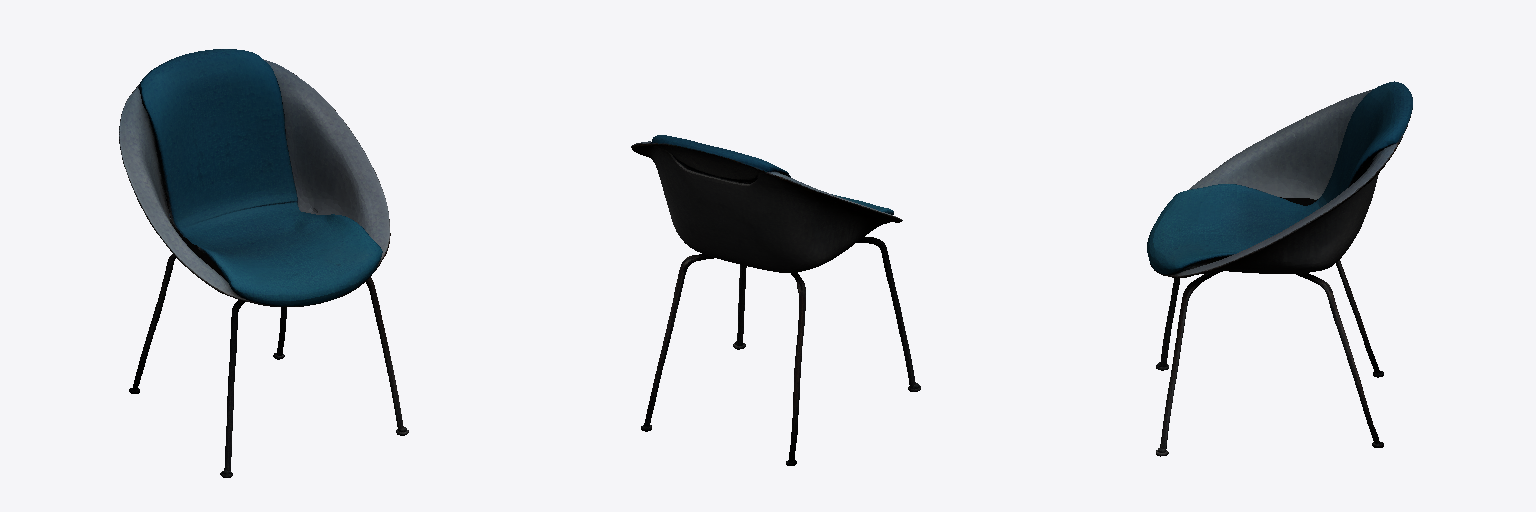
3 views of the same model, side by side, from view 1: azimuth 30°, elevation 25°; view 2: azimuth 150°, elevation 25°; view 3: azimuth 270°, elevation 25° (orthographic).
Parts seen in each view (by area): view 1: geometry_0; view 2: geometry_0; view 3: geometry_0.
Boxes of the visible parts, box(x1,y1,x2,y2) form: geometry_0: box(119, 49, 408, 477); geometry_0: box(631, 135, 920, 465); geometry_0: box(1147, 81, 1412, 456).
Size of the model in its own units: 0.7501 by 0.9982 by 0.7731.
Materials: 1 (1 with a texture image).